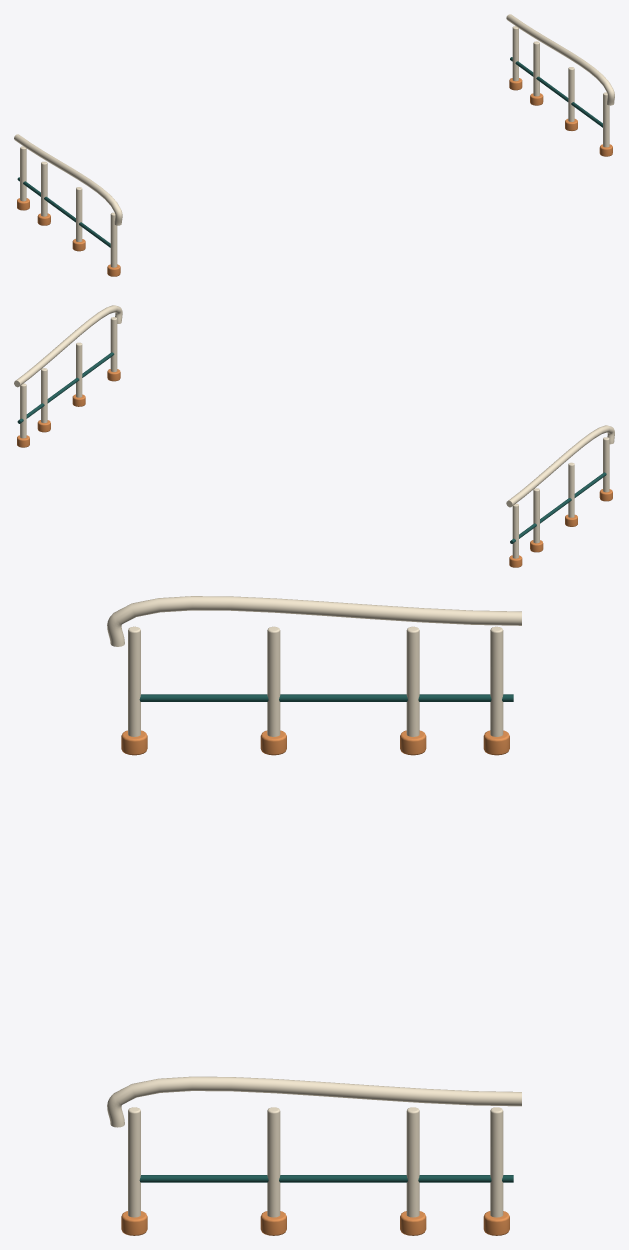
File: roof_rails.glb
The picture shows the model from 3 angles, top to bottom: view 1: azimuth 30°, elevation 25°; view 2: azimuth 150°, elevation 25°; view 3: azimuth 270°, elevation 25°; orthographic projection. The views are drawn at different scales.
Parts seen in each view (by area): view 1: roof_rails_mesh; view 2: roof_rails_mesh; view 3: roof_rails_mesh.
Part boxes in pixels (x1,y1,x2,y2): roof_rails_mesh: [14, 14, 614, 276]; roof_rails_mesh: [14, 305, 614, 567]; roof_rails_mesh: [107, 596, 521, 1235].
Bounding box in the file's own units: 8.35 × 1.22 × 2.98.
